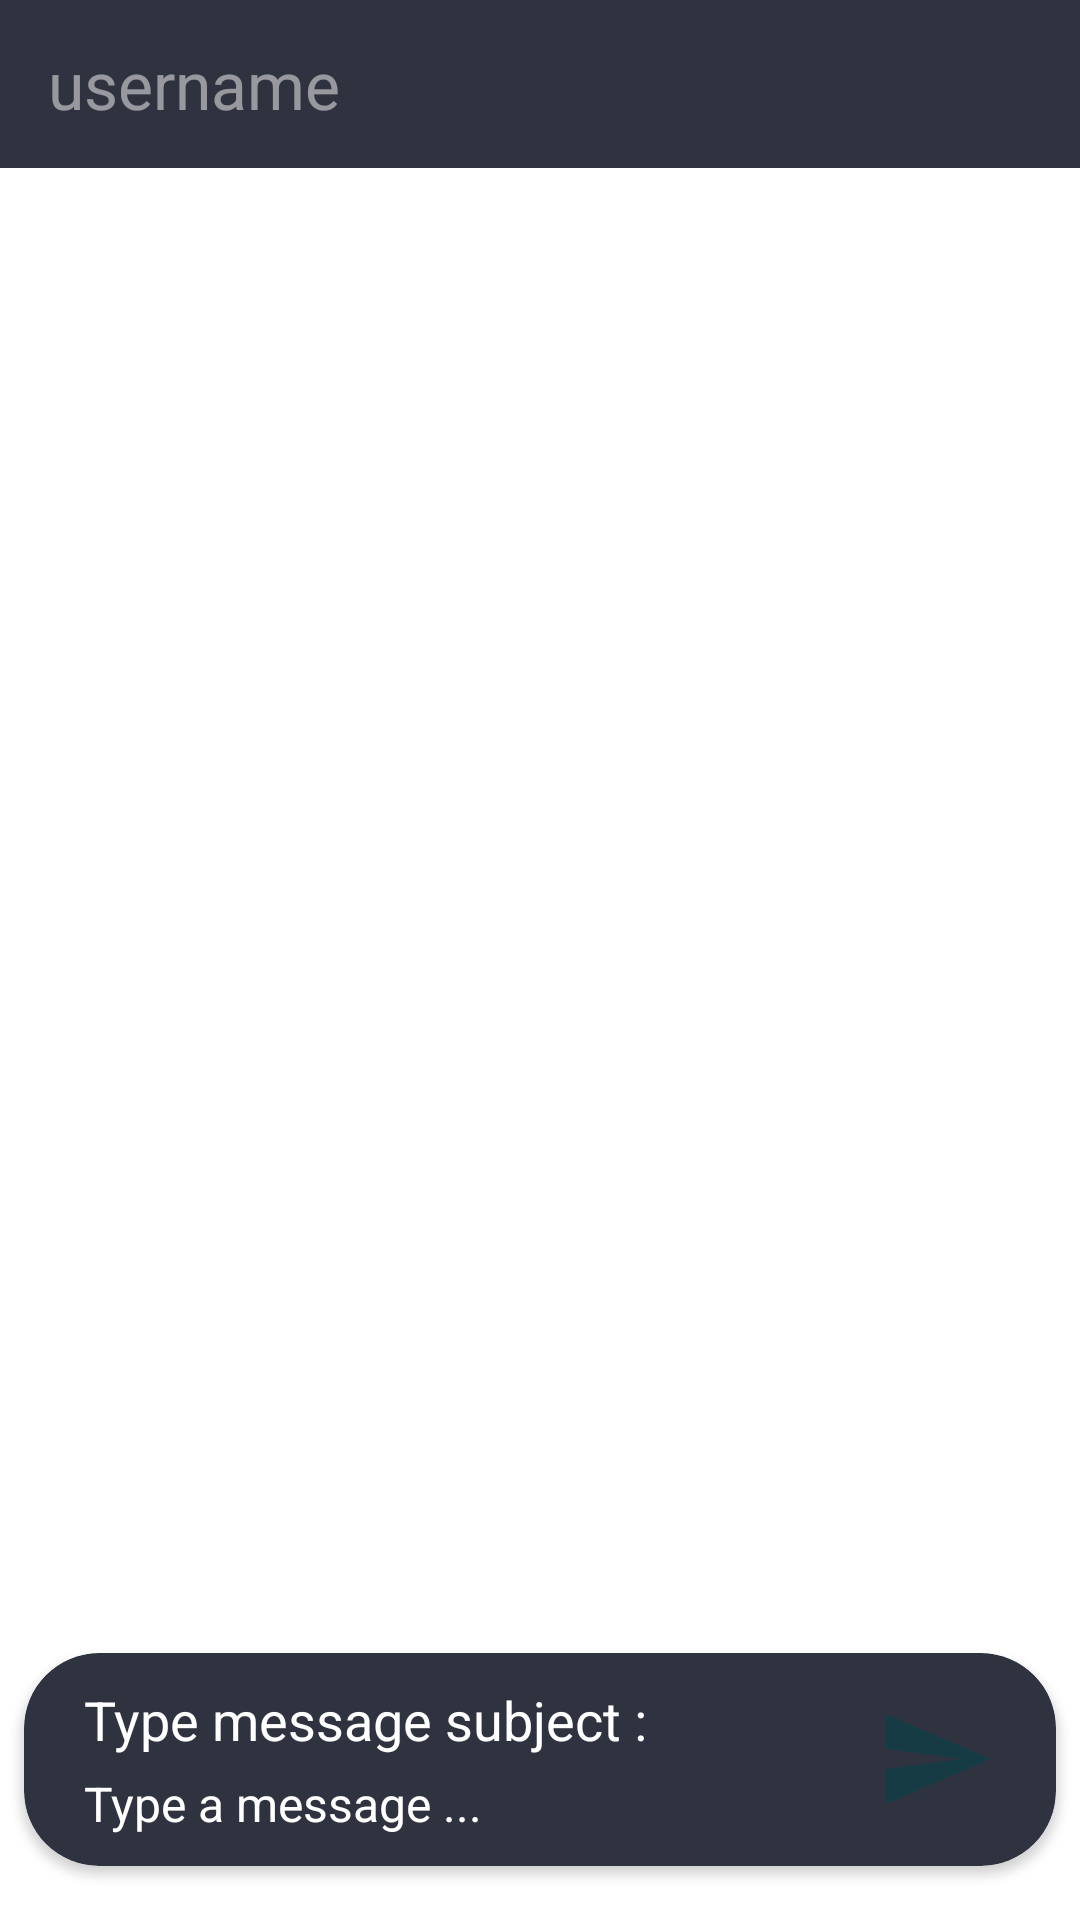

Point at icon controls on the screen. Image size 1080x1920, points as [x,y].
send: [937,1759]
